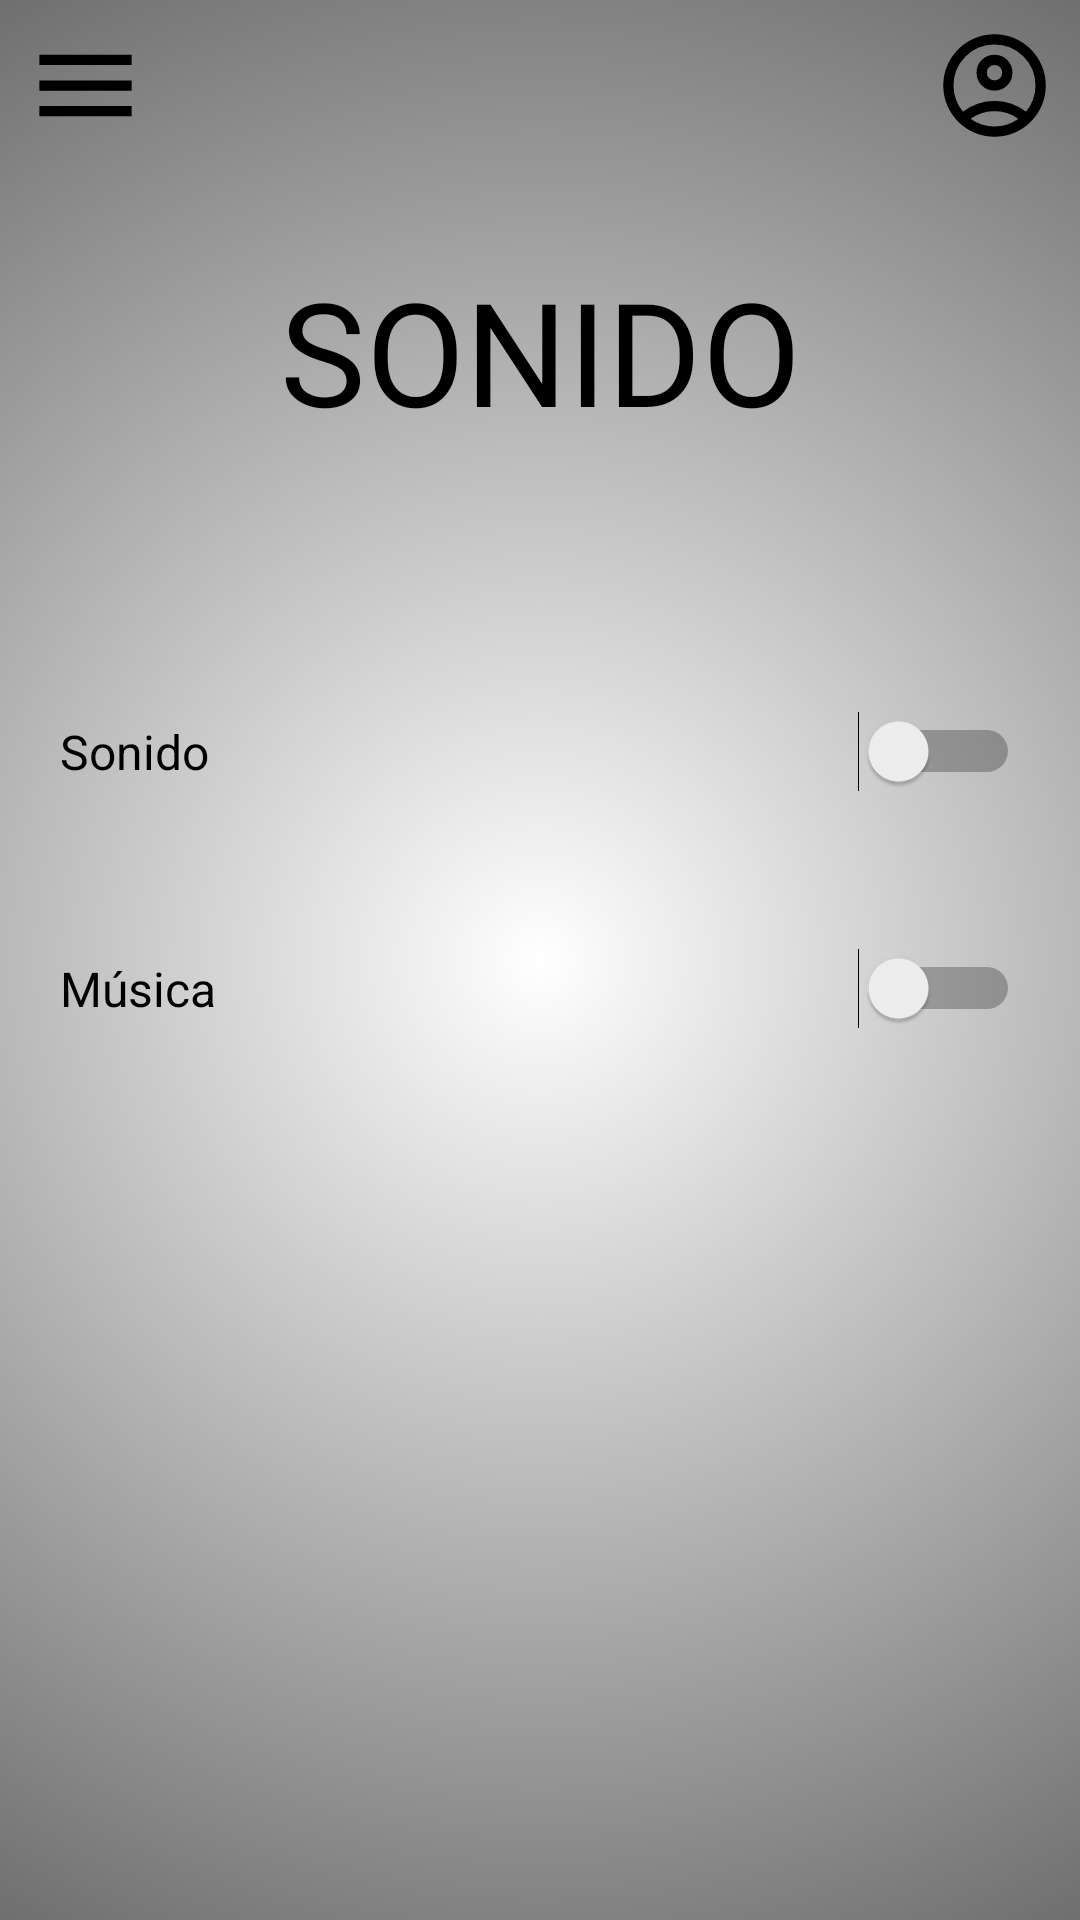

Icons on this 1080x1920 Android screen, each with the point to tap as point (x, y):
account: point (994, 85)
menu: point (85, 85)
